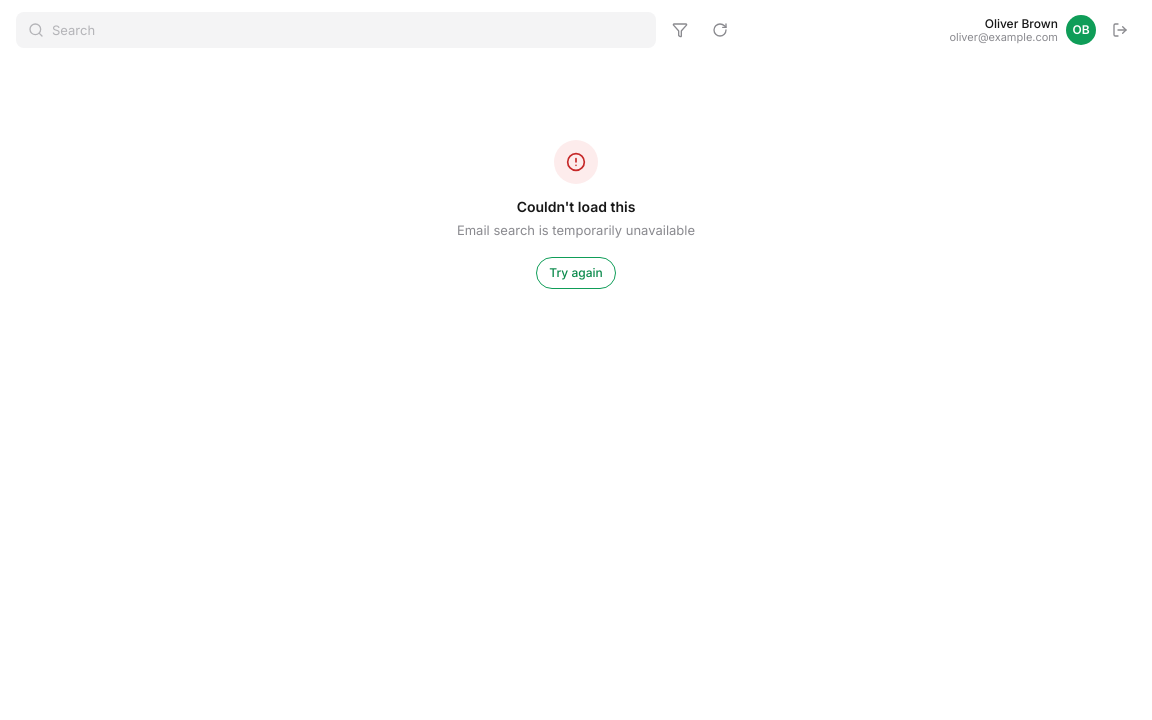
it: Mailbox › shows an error state with retry when search is unavailable
The width and height of the screenshot is (1152, 720).
Expected: the text "Email search is temporarily unavailable" is shown, left=457, top=221, right=695, bottom=240
Step 1. Click the button "Try again" → (576, 272), box left=536, top=256, right=616, bottom=288
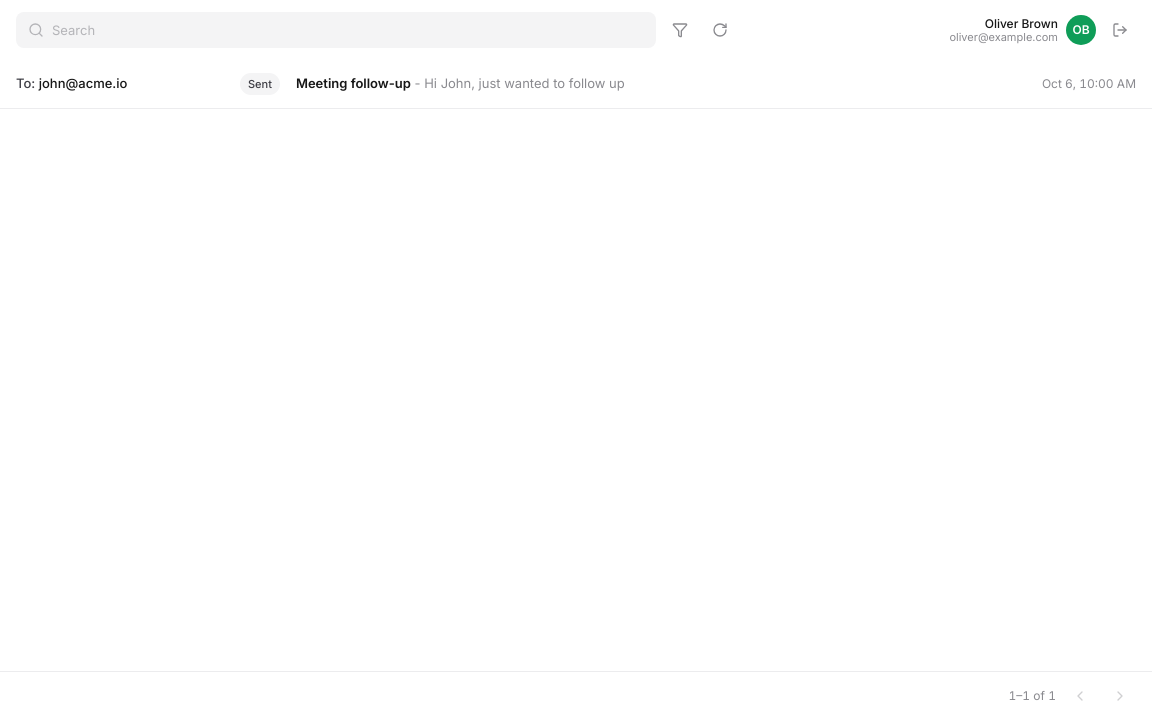
Expected: the text "Sent" is shown, left=240, top=73, right=280, bottom=95
